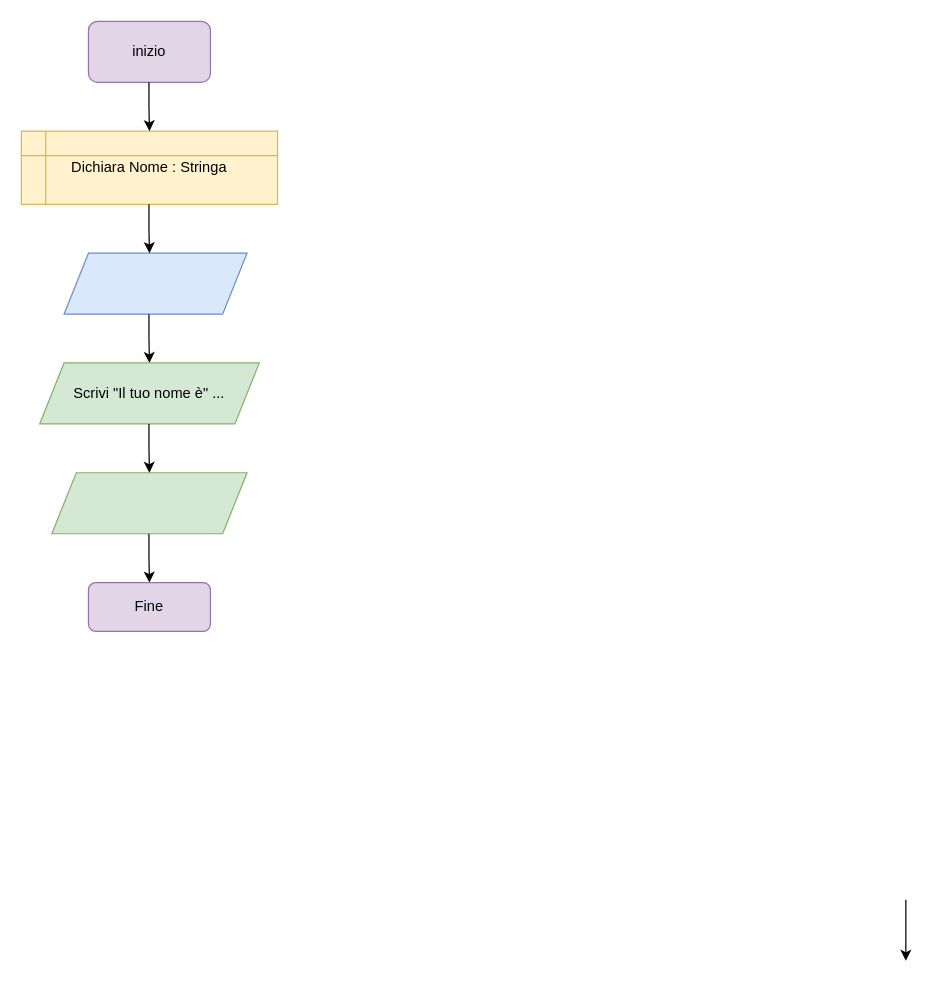
Some shapes in this 937 by 992 pixel diagram are drawn without their labels. Here are the shapes that lost their labels. From the top down, the centre of each, then its label:
At point 155,283: "Leggi Nome".
At point 149,503: "Scrivi Nome".
